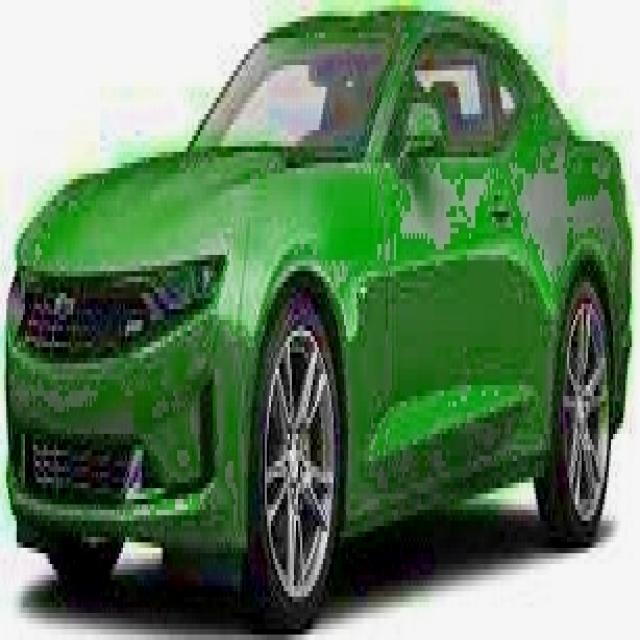green: (7, 11, 631, 618)
